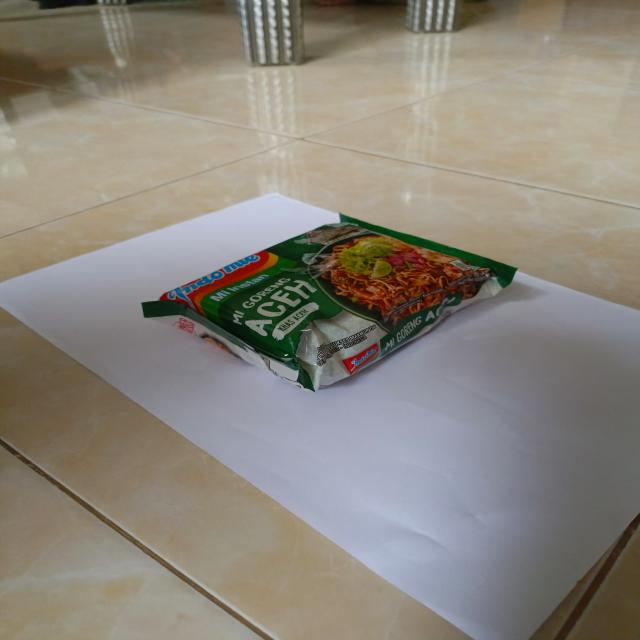gery-salut-coconut: (141, 214, 520, 393)
